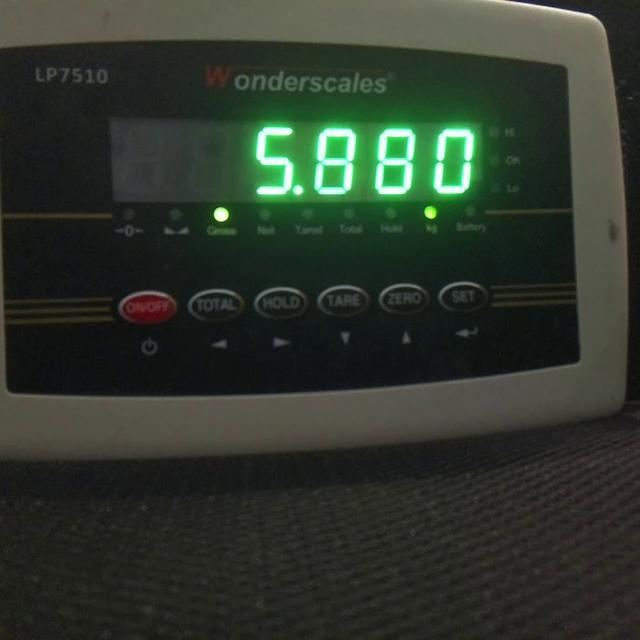.: (293, 185, 303, 195)
0: (434, 127, 475, 194)
5: (252, 125, 294, 197)
8: (313, 127, 356, 196), (374, 127, 416, 195)
